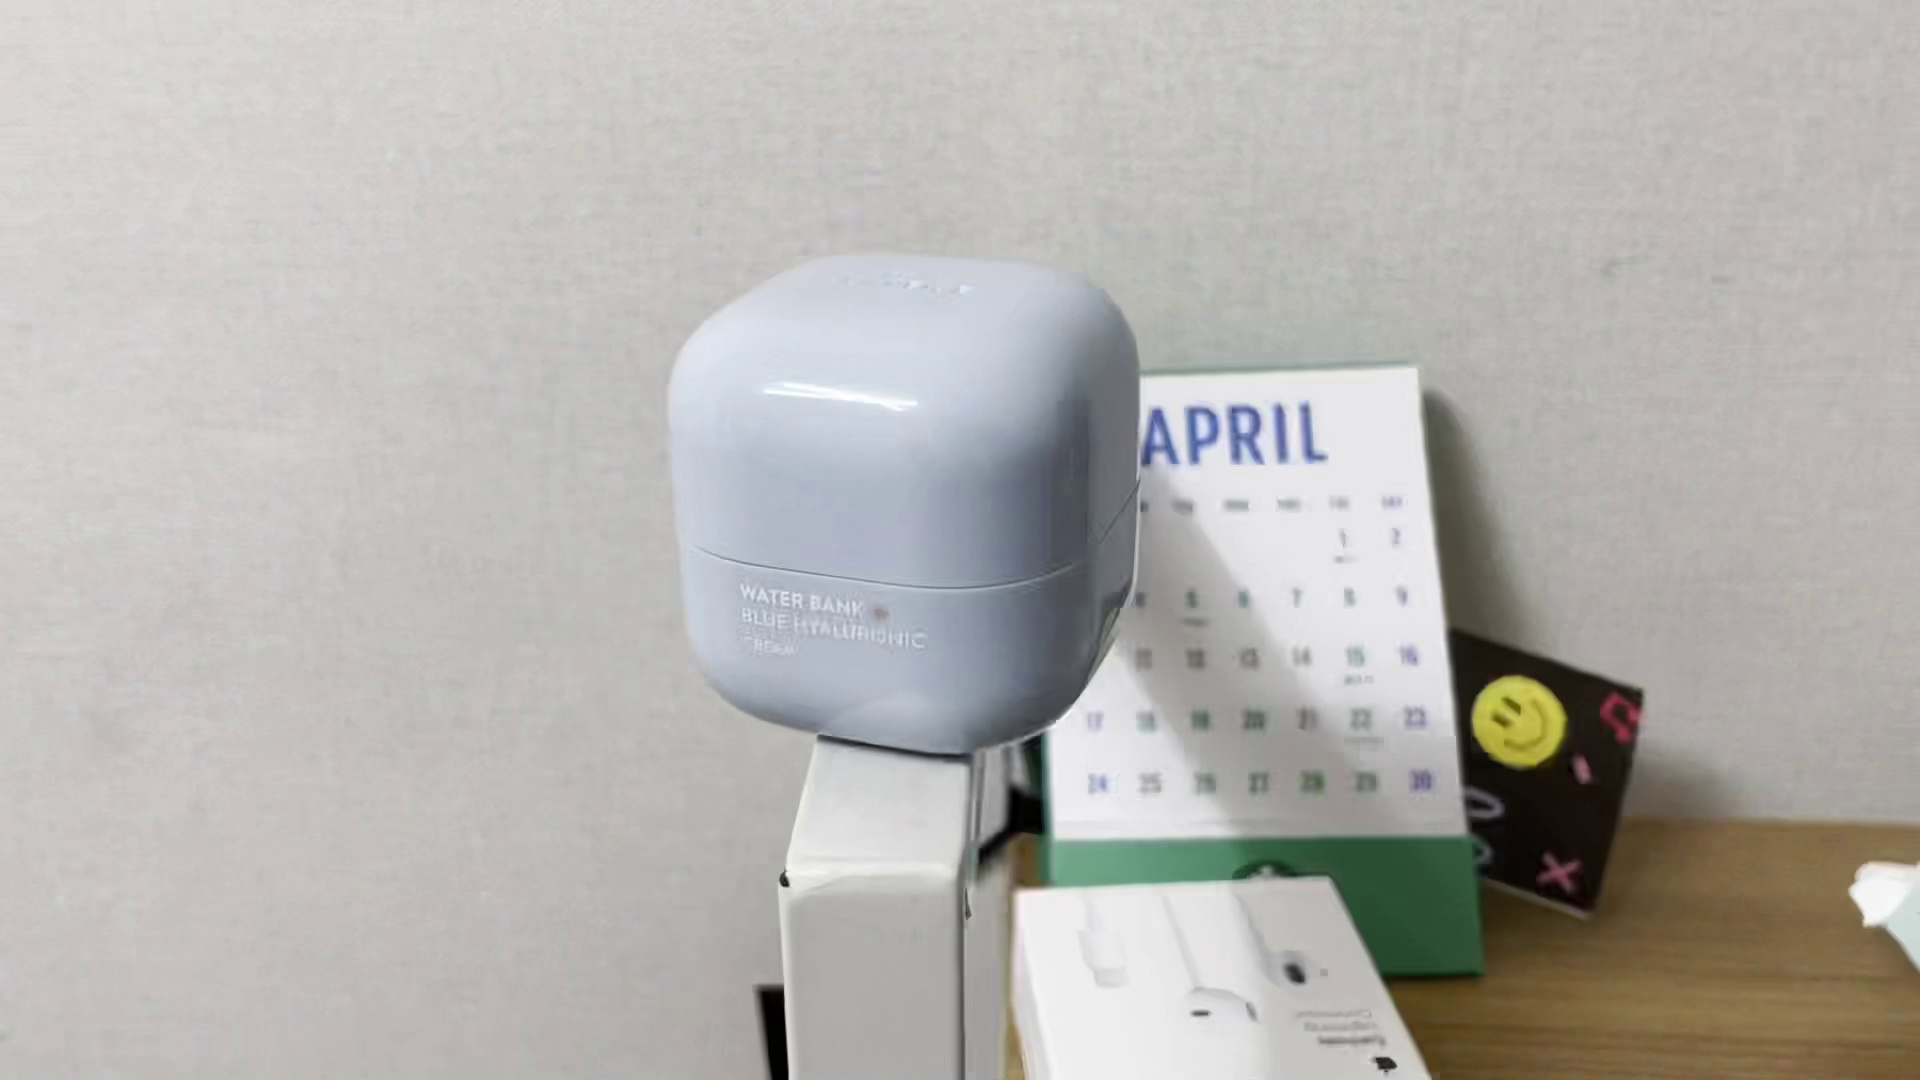cream: (673, 245, 1139, 752)
